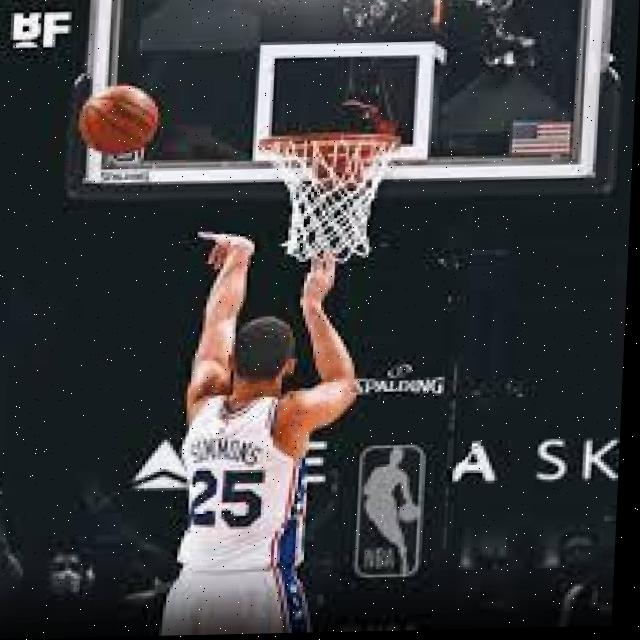basketball: (78, 81, 162, 155)
hoop: (257, 131, 401, 263)
